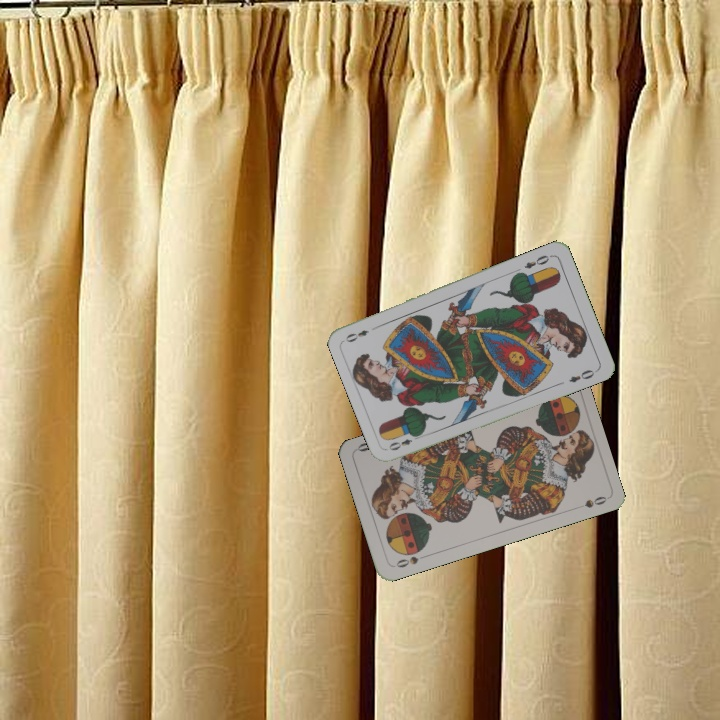EO: (385, 430, 423, 453), (520, 251, 555, 271)
SO: (390, 551, 430, 570)
